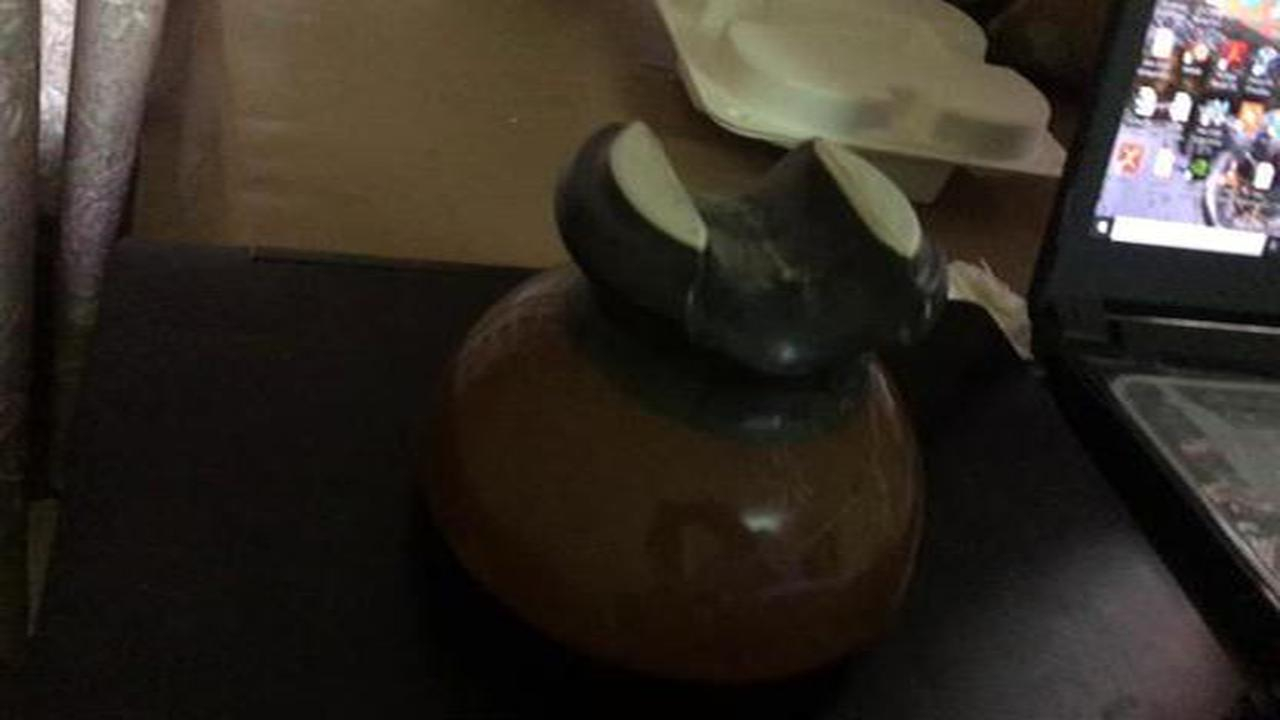insulator_pin: (391, 97, 973, 696)
